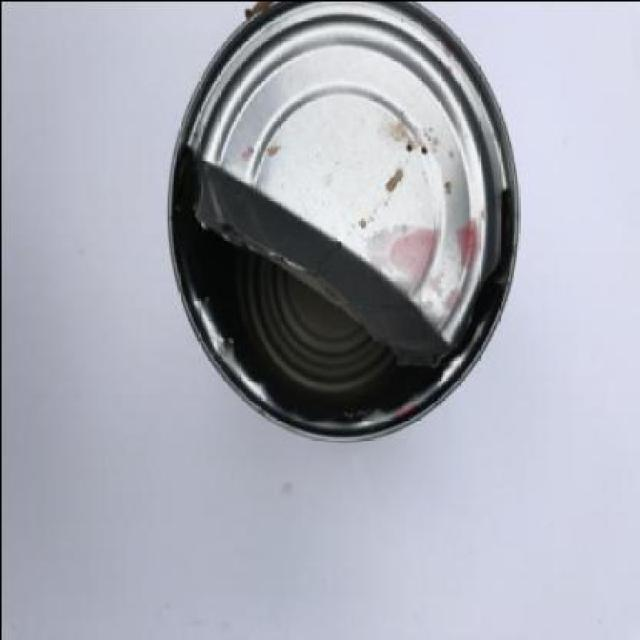METAL: (164, 1, 518, 438)
